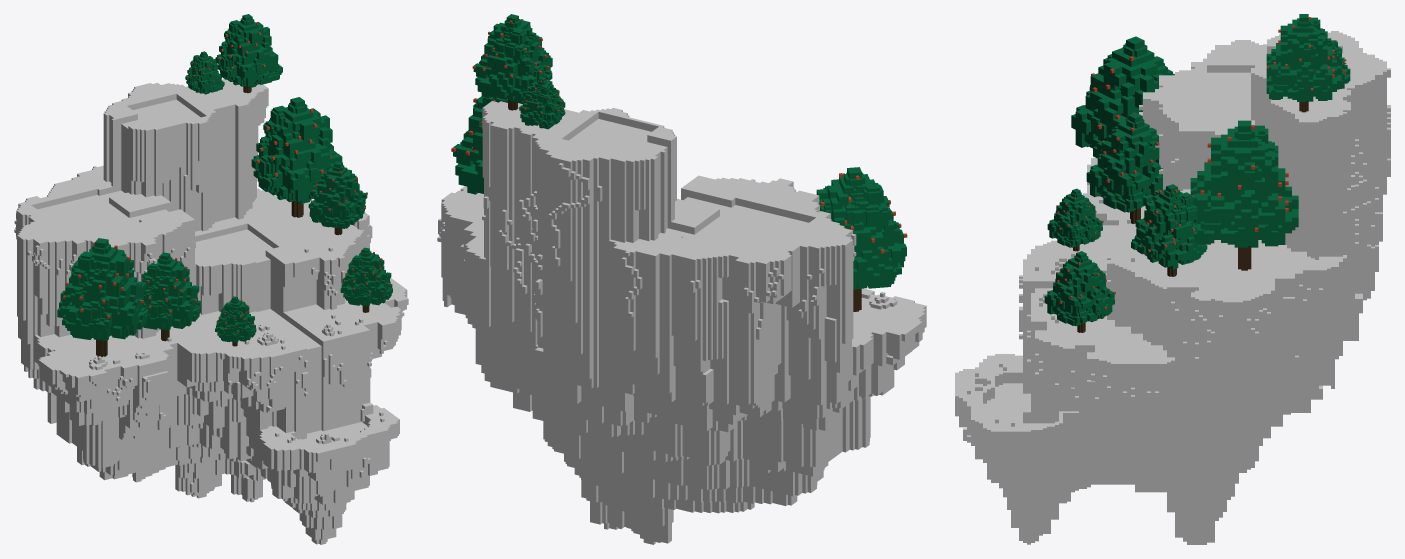
File: 三层瀑布岛.FBX
3 views of the same model, side by side, from view 1: azimuth 30°, elevation 25°; view 2: azimuth 150°, elevation 25°; view 3: azimuth 270°, elevation 25° (orthographic). The views are drawn at different scales.
Visible parts, largest first — view 1: default, default005, default001, default006, default003, default002, default008, default007, default004; view 2: default, default005, default003, default001, default004; view 3: default, default001, default005, default006, default003, default002, default008, default007.
Boxes of the visible parts, x1=… form: default: x1=14, y1=79, x2=408, y2=544; default005: x1=57, y1=238, x2=148, y2=357; default001: x1=251, y1=97, x2=342, y2=217; default006: x1=142, y1=252, x2=200, y2=341; default003: x1=215, y1=14, x2=282, y2=93; default002: x1=308, y1=161, x2=367, y2=235; default008: x1=340, y1=247, x2=392, y2=312; default007: x1=215, y1=296, x2=256, y2=346; default004: x1=185, y1=51, x2=224, y2=94; default: x1=437, y1=101, x2=926, y2=544; default005: x1=816, y1=167, x2=907, y2=311; default003: x1=472, y1=14, x2=552, y2=110; default001: x1=451, y1=92, x2=507, y2=194; default004: x1=518, y1=77, x2=565, y2=129; default: x1=955, y1=31, x2=1390, y2=544; default001: x1=1190, y1=120, x2=1298, y2=270; default005: x1=1071, y1=36, x2=1174, y2=158; default006: x1=1086, y1=112, x2=1162, y2=223; default003: x1=1266, y1=14, x2=1341, y2=112; default002: x1=1131, y1=184, x2=1207, y2=276; default008: x1=1044, y1=251, x2=1115, y2=332; default007: x1=1047, y1=188, x2=1103, y2=251.
Size of the model in its own units: 126 by 152 by 109.
